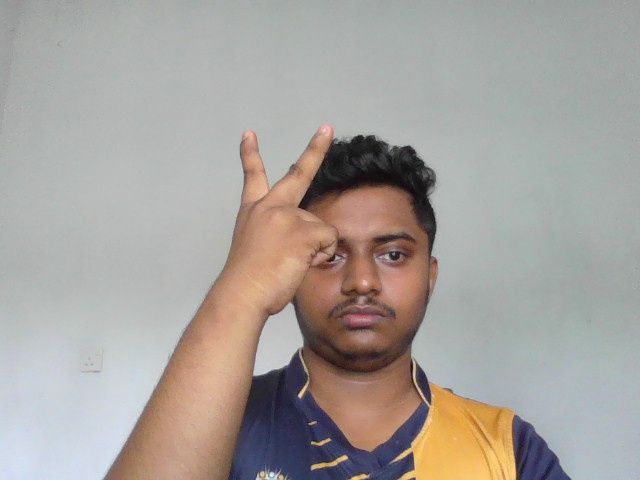See You: (221, 124, 338, 317)
